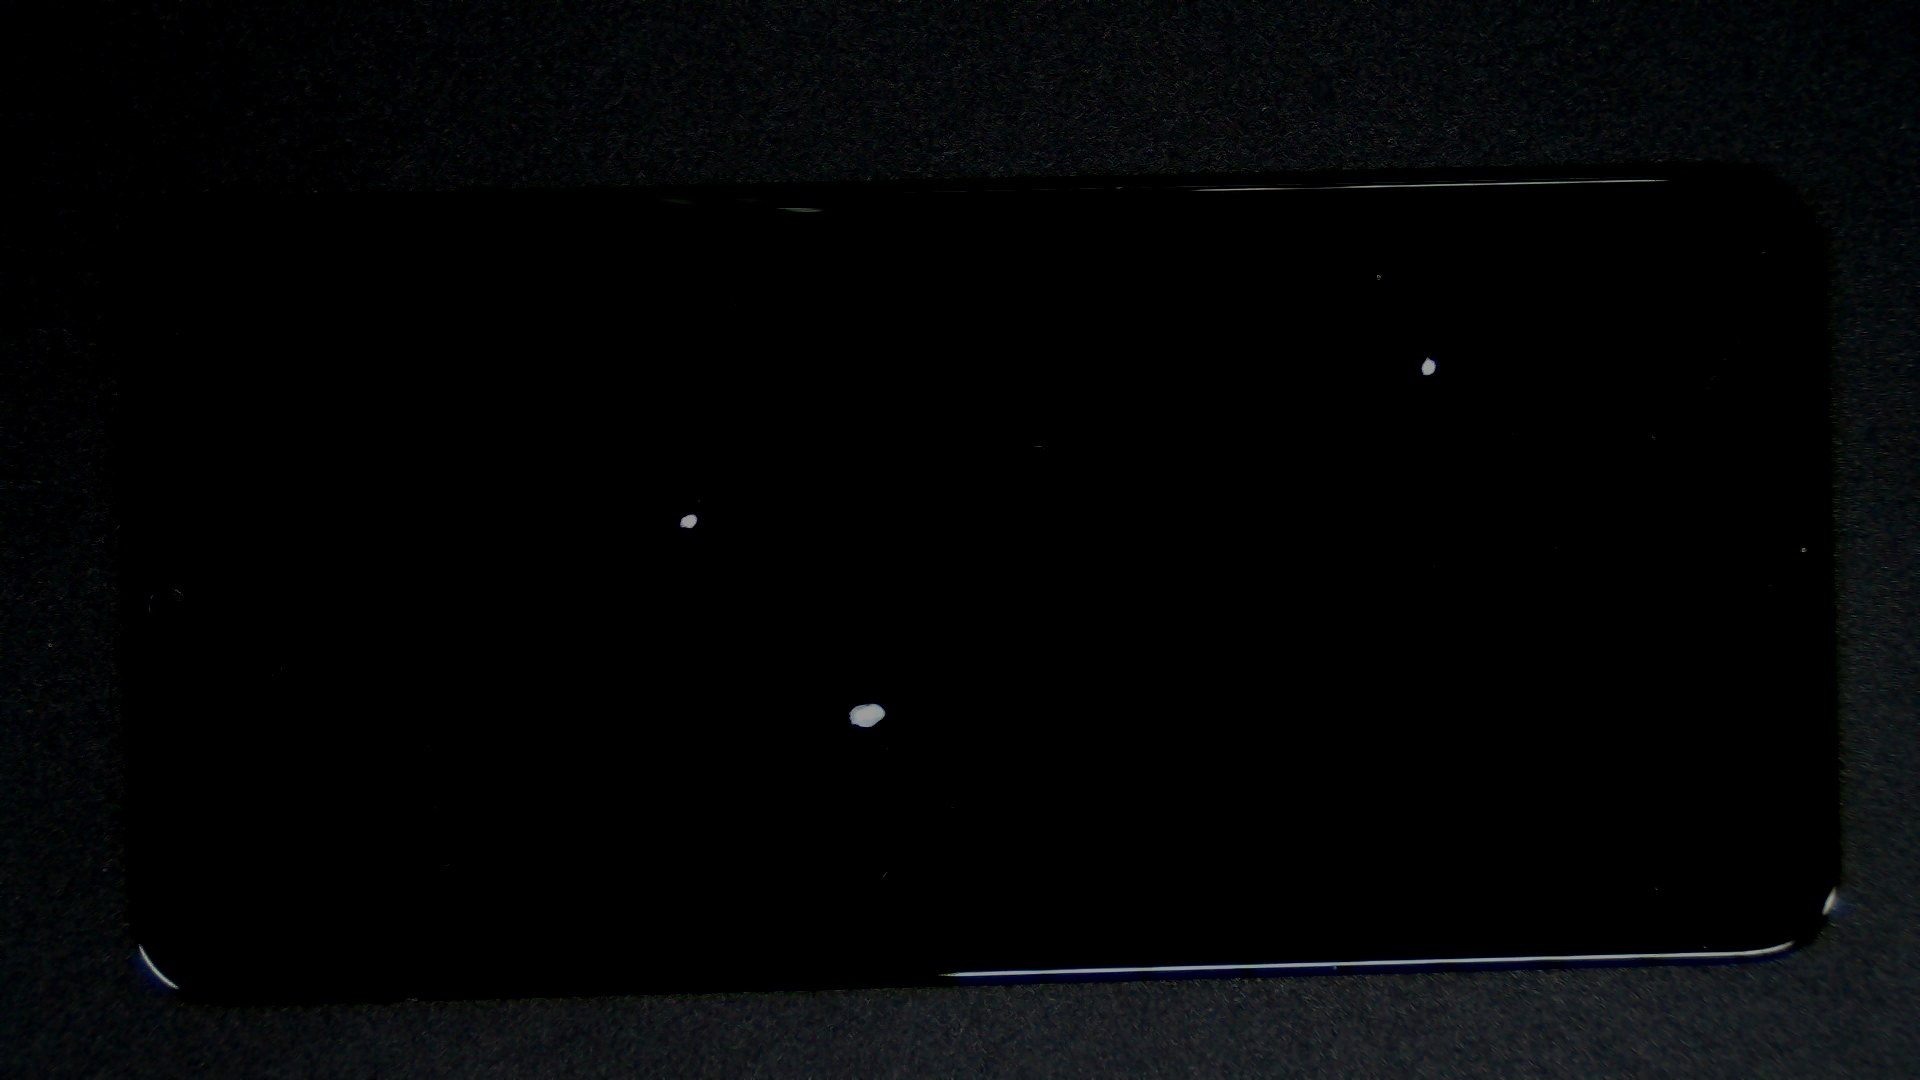oil: (434, 351, 1299, 1054), (715, 177, 1920, 534), (348, 256, 1042, 769)
